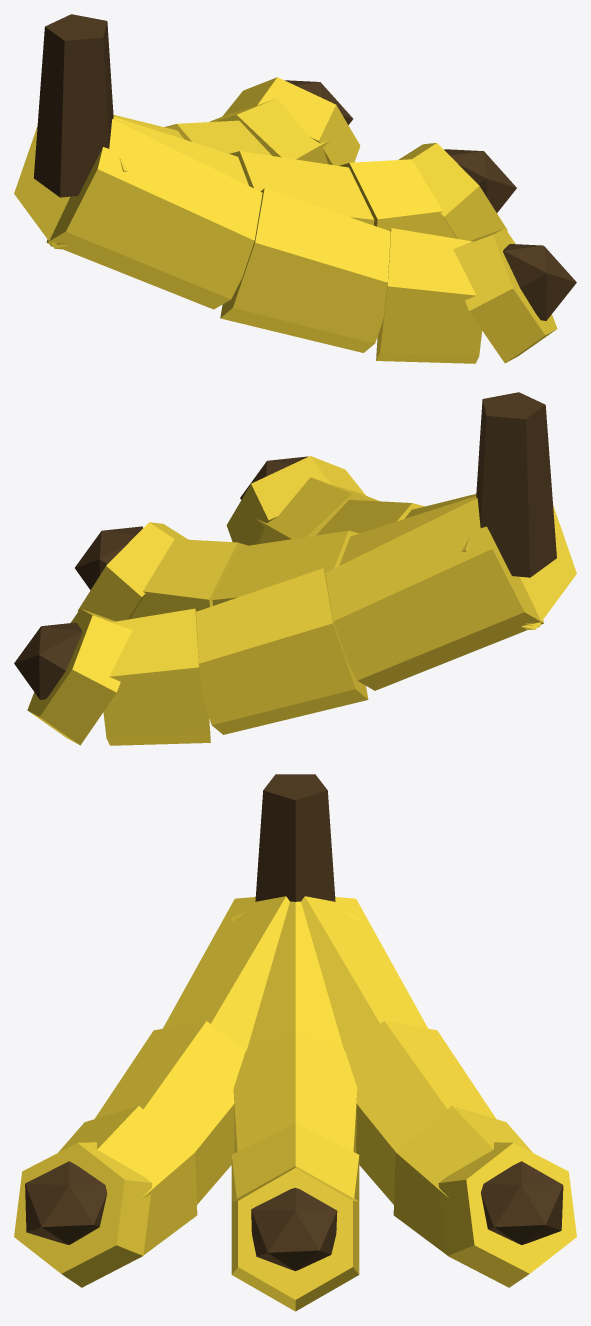
Rendered from banana.glb.
3 renders of one model, top to bottom at view 1: azimuth 30°, elevation 25°; view 2: azimuth 150°, elevation 25°; view 3: azimuth 270°, elevation 25°, orthographic.
Visible parts, largest first — view 1: banana, banana_tip; view 2: banana, banana_tip; view 3: banana, banana_tip.
Part boxes in pixels (x1,y1,x2,y2): banana: (14,77,557,363); banana_tip: (33,14,576,320); banana: (27,456,576,745); banana_tip: (14,392,556,699); banana: (14,896,576,1311); banana_tip: (25,774,563,1270).
Bounding box in the file's own units: 0.4779 × 0.33 × 0.4967.
